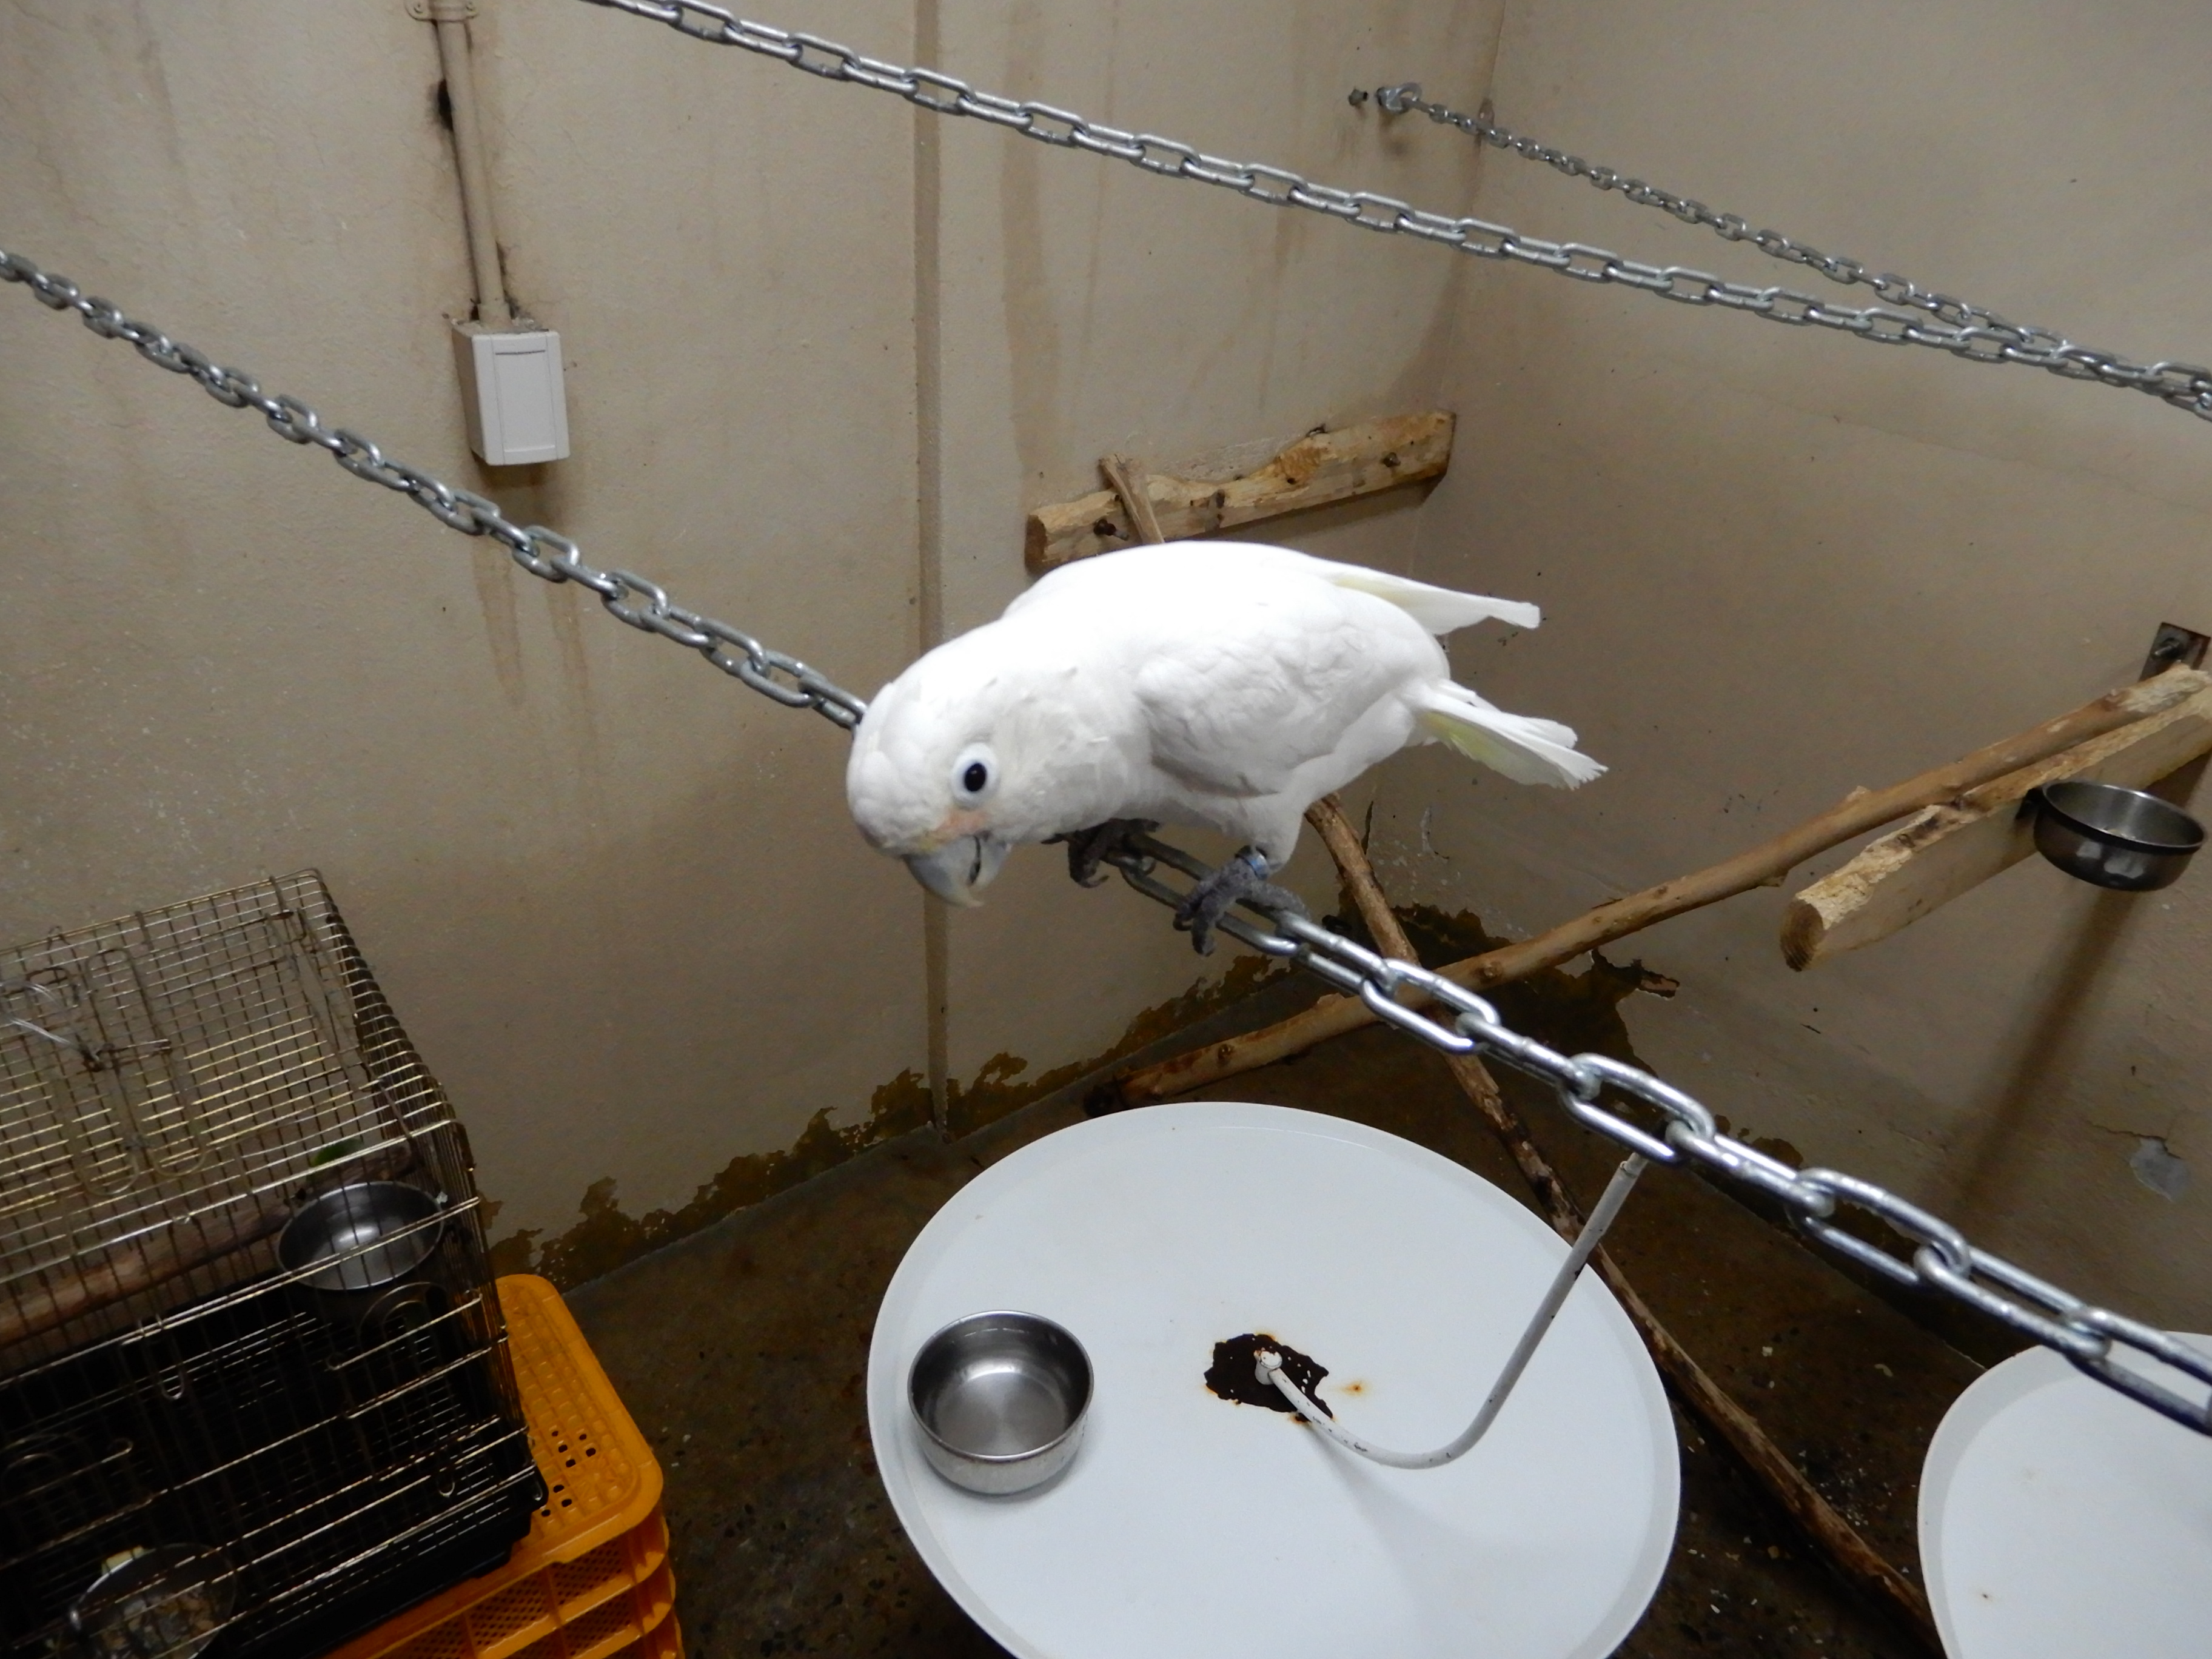Cacatua goffiniana: (838, 525, 1623, 938)
